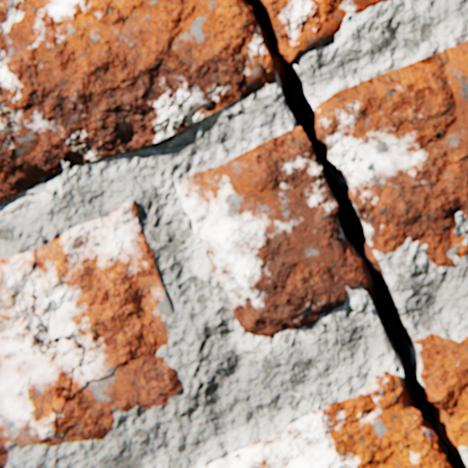brick: (0, 200, 182, 467), (42, 345, 47, 349)
broken_brick: (0, 0, 276, 202), (177, 127, 366, 336), (315, 41, 467, 265), (199, 369, 451, 467), (262, 0, 389, 62), (414, 333, 467, 446)
crack: (243, 0, 467, 467), (30, 249, 145, 441), (400, 194, 426, 237), (442, 156, 467, 168), (428, 169, 440, 191)
